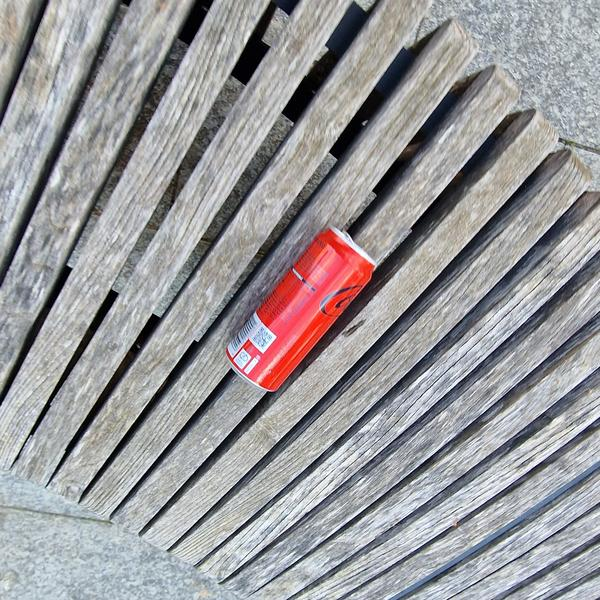can: (215, 218, 384, 401)
